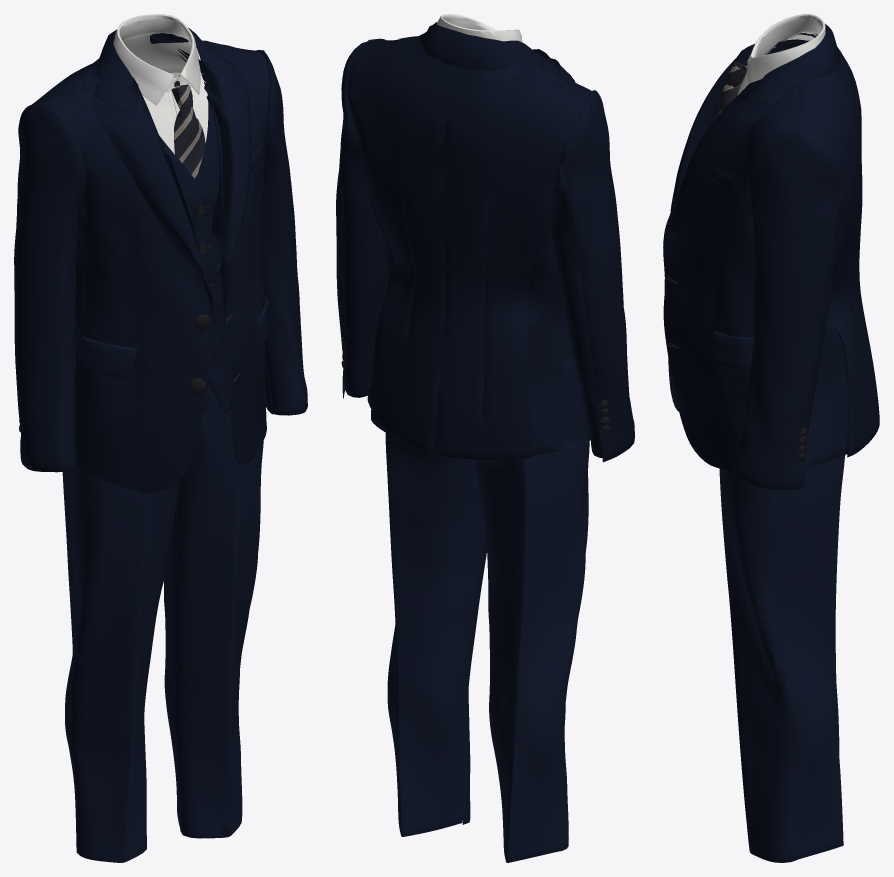
The model's file is MW_Tailleur_suit_v4_blender_collarfix4_peak_only.glb.
3 renders of one model, left to right at view 1: azimuth 30°, elevation 25°; view 2: azimuth 150°, elevation 25°; view 3: azimuth 270°, elevation 25°, orthographic. The views are drawn at different scales.
Parts seen in each view (by area): view 1: Jacket, Trousers, Shirt, Waistcoat, Tie, Trim; view 2: Jacket, Trousers, Shirt, Waistcoat; view 3: Jacket, Trousers, Shirt, Tie.
Boxes of the visible parts, bbox=[...] form: Jacket: bbox=[14, 27, 307, 492]; Trousers: bbox=[62, 383, 263, 862]; Shirt: bbox=[113, 14, 208, 154]; Waistcoat: bbox=[75, 58, 231, 413]; Tie: bbox=[172, 84, 205, 179]; Trim: bbox=[19, 81, 210, 432]; Jacket: bbox=[336, 22, 634, 462]; Trousers: bbox=[385, 339, 589, 862]; Shirt: bbox=[437, 14, 522, 41]; Waistcoat: bbox=[414, 41, 521, 81]; Jacket: bbox=[663, 24, 879, 489]; Trousers: bbox=[719, 455, 845, 862]; Shirt: bbox=[737, 14, 825, 95]; Tie: bbox=[719, 62, 746, 114].
Bounding box in the file's own units: 0.5389 × 1.5 × 0.3678.
8 materials, 4 textured.
